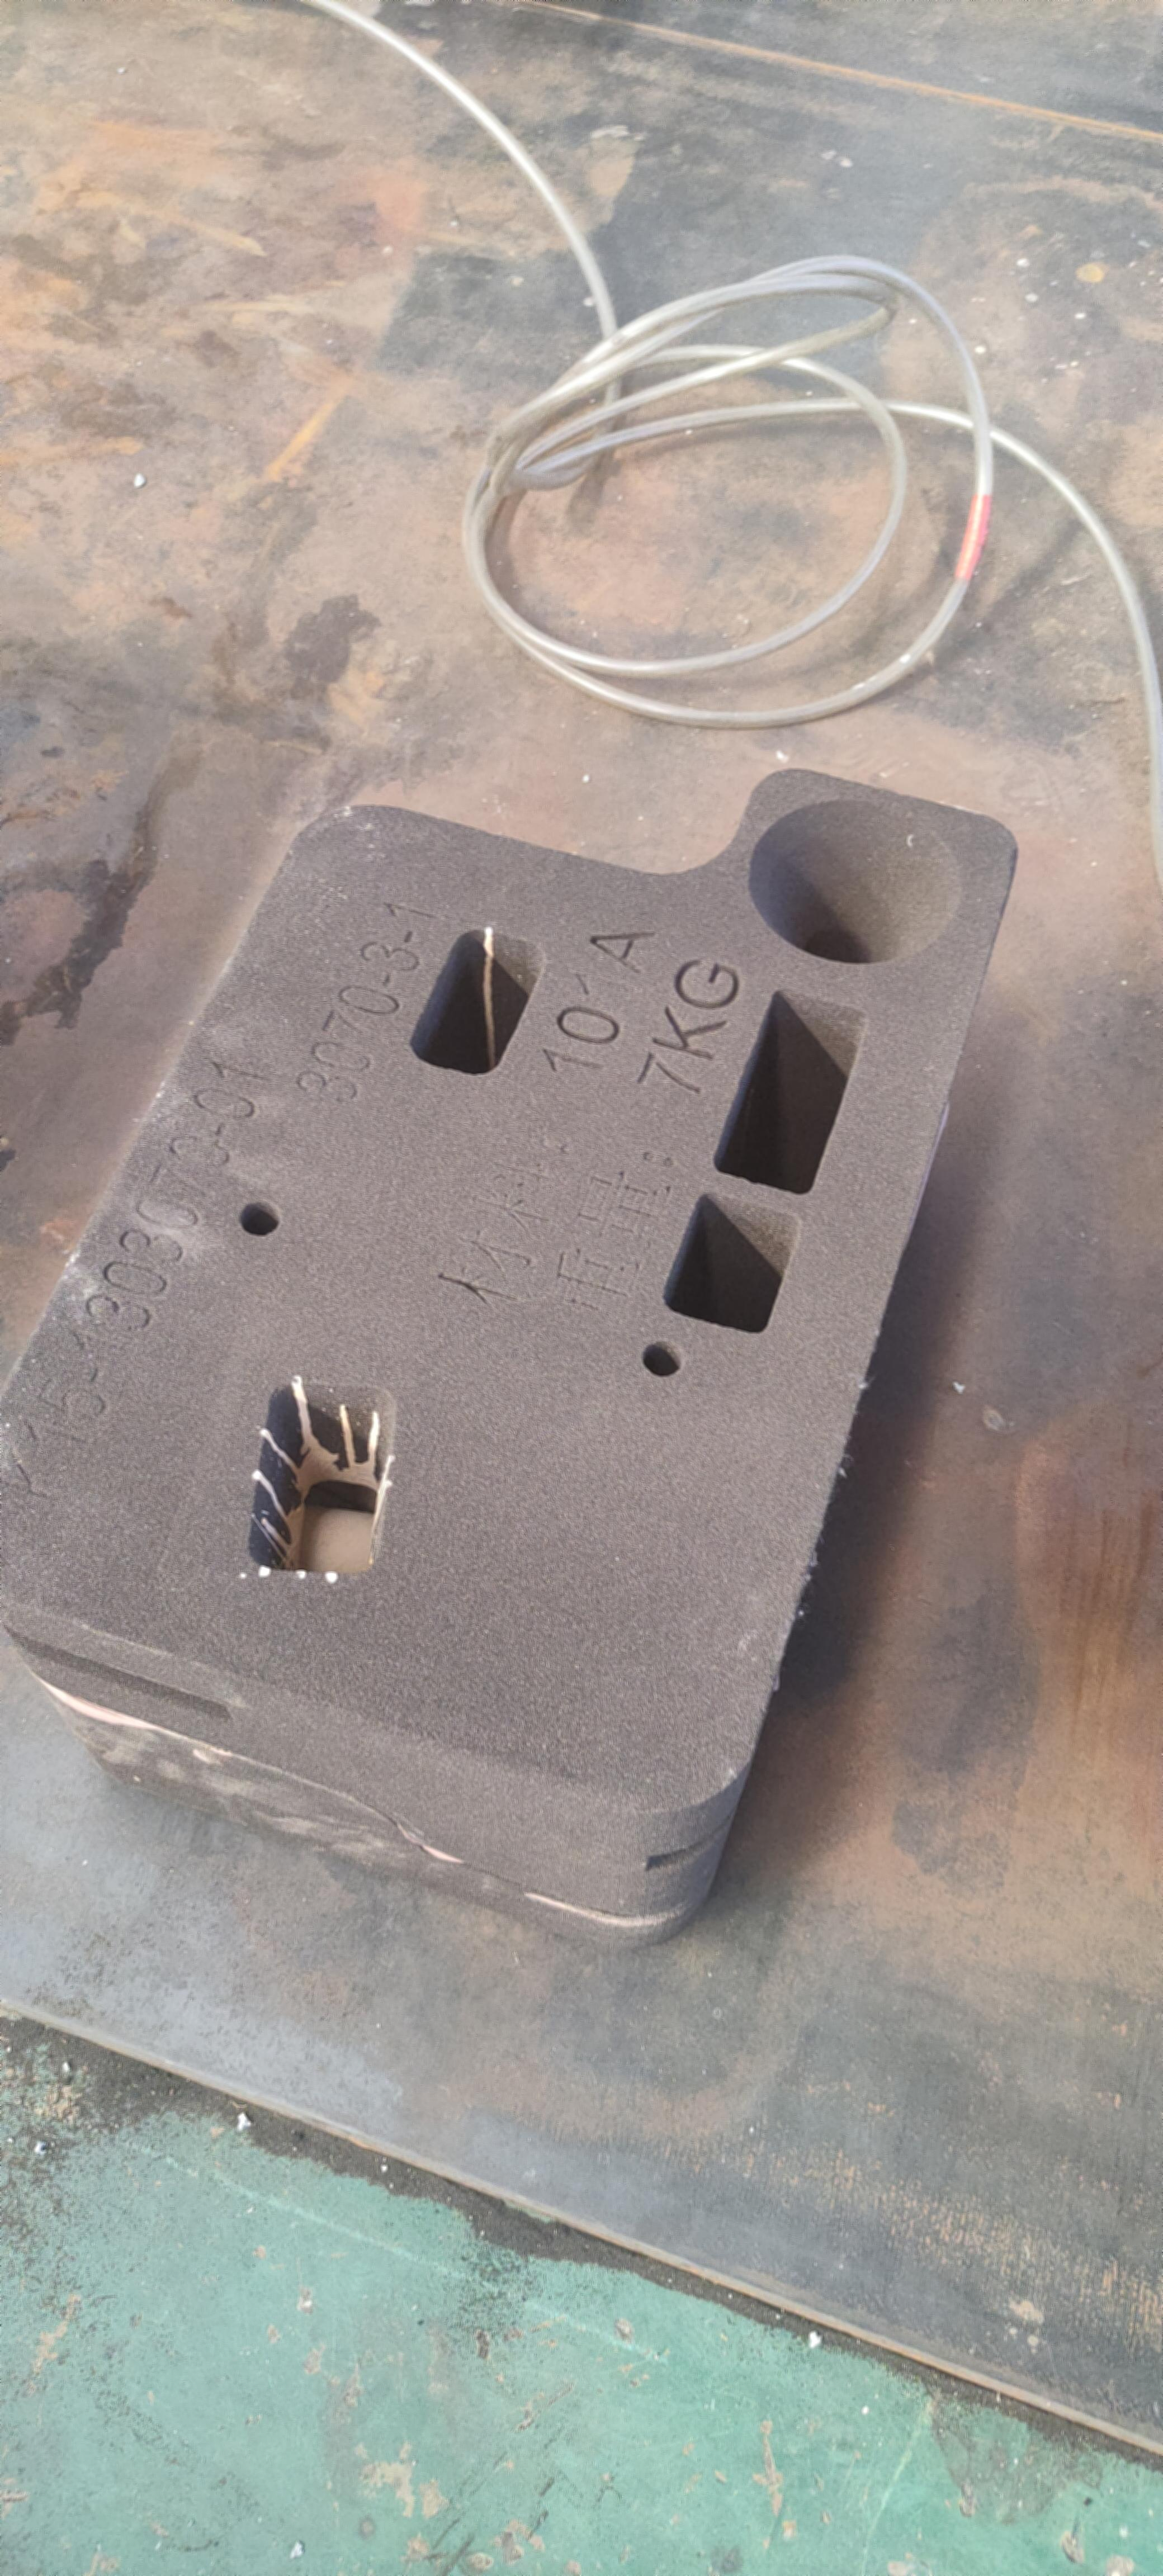pouring hole: (751, 798, 963, 966)
